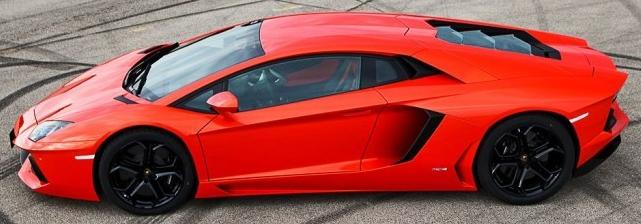headlight: (27, 114, 73, 145)
side_glass: (167, 43, 452, 124)
